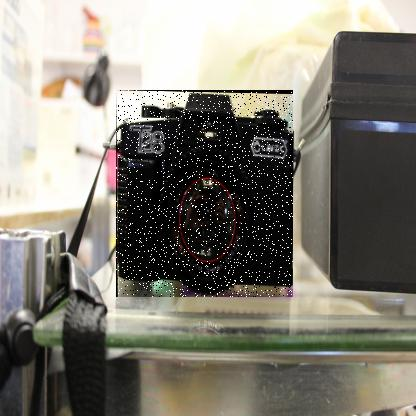Camera: (117, 91, 295, 299)
